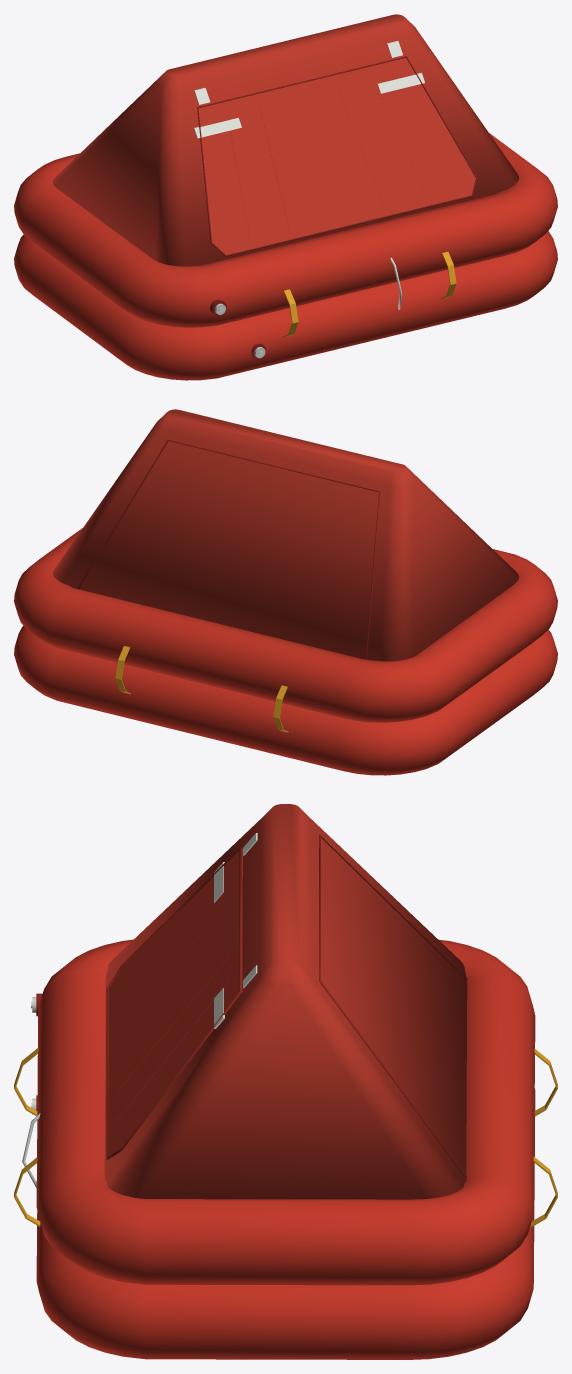
3 views of the same model, one above another, from view 1: azimuth 30°, elevation 25°; view 2: azimuth 150°, elevation 25°; view 3: azimuth 270°, elevation 25° (orthographic). The views are drawn at different scales.
Visible parts, largest first — view 1: Closed upper inflated buoyancy tube, Closed front entrance flap, Closed ridge canopy, Closed lower inflated buoyancy tube, Closed flap perimeter seam, Pale front reflective strip 0, Pale front reflective strip 1; view 2: Closed ridge canopy, Closed upper inflated buoyancy tube, Closed lower inflated buoyancy tube, Generic rear panel seam; view 3: Closed ridge canopy, Closed upper inflated buoyancy tube, Closed lower inflated buoyancy tube, Closed front entrance flap, Closed flap perimeter seam, Generic rear panel seam.
Part boxes in pixels (x1,y1,x2,y2): Closed upper inflated buoyancy tube: [14, 133, 557, 327]; Closed front entrance flap: [198, 58, 475, 254]; Closed ridge canopy: [52, 14, 518, 266]; Closed lower inflated buoyancy tube: [14, 231, 557, 380]; Closed flap perimeter seam: [197, 56, 477, 256]; Pale front reflective strip 0: [194, 118, 241, 138]; Pale front reflective strip 1: [377, 72, 424, 93]; Closed ridge canopy: [53, 409, 519, 661]; Closed upper inflated buoyancy tube: [14, 528, 557, 722]; Closed lower inflated buoyancy tube: [14, 626, 557, 775]; Generic rear panel seam: [77, 439, 380, 659]; Closed ridge canopy: [104, 804, 467, 1199]; Closed upper inflated buoyancy tube: [36, 939, 535, 1285]; Closed lower inflated buoyancy tube: [36, 1088, 535, 1359]; Closed front entrance flap: [108, 848, 242, 1156]; Closed flap perimeter seam: [106, 847, 241, 1159]; Generic rear panel seam: [319, 835, 467, 1178].
Bounding box in the file's own units: 2.74 × 1.46 × 2.12.
